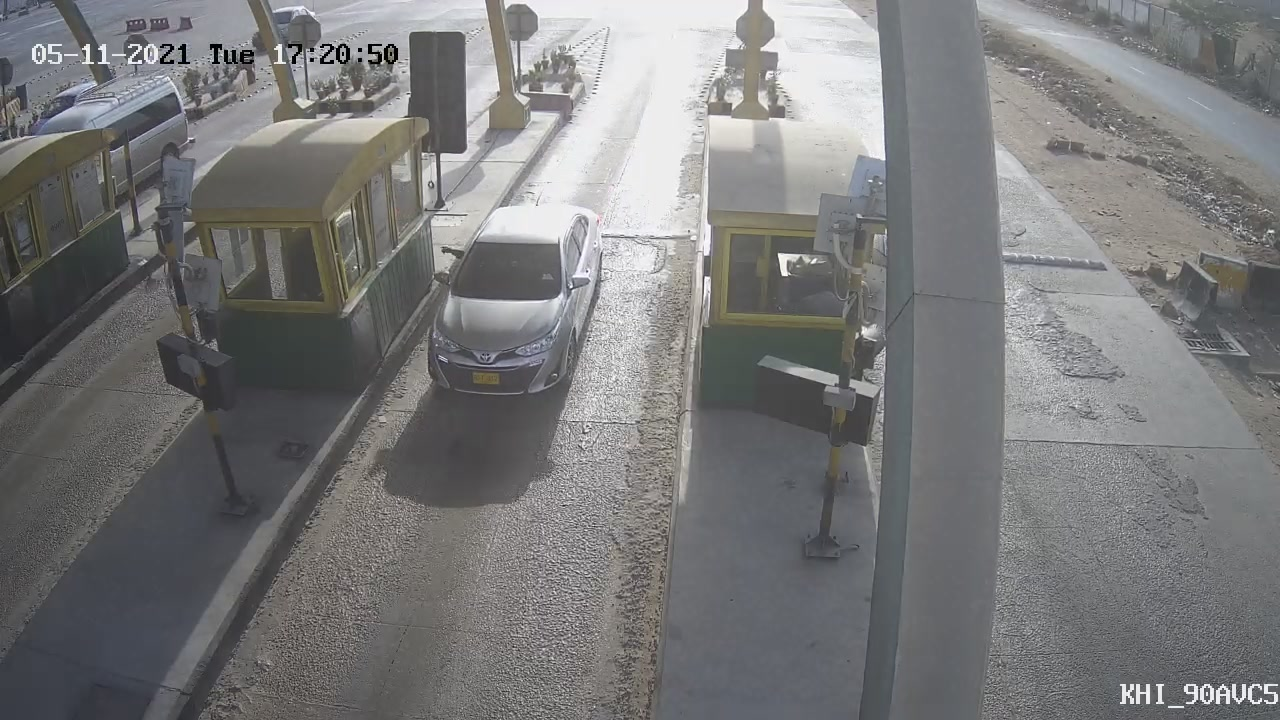F1: (403, 182, 620, 417)
